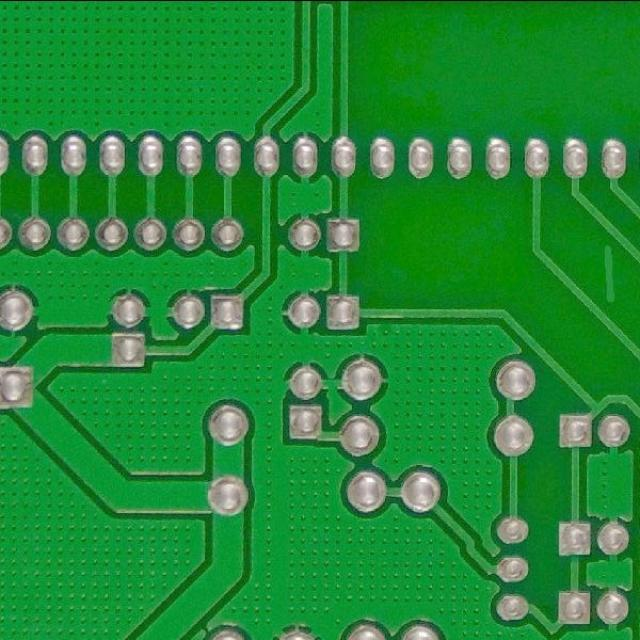spurious_copper: (597, 240, 623, 309)
